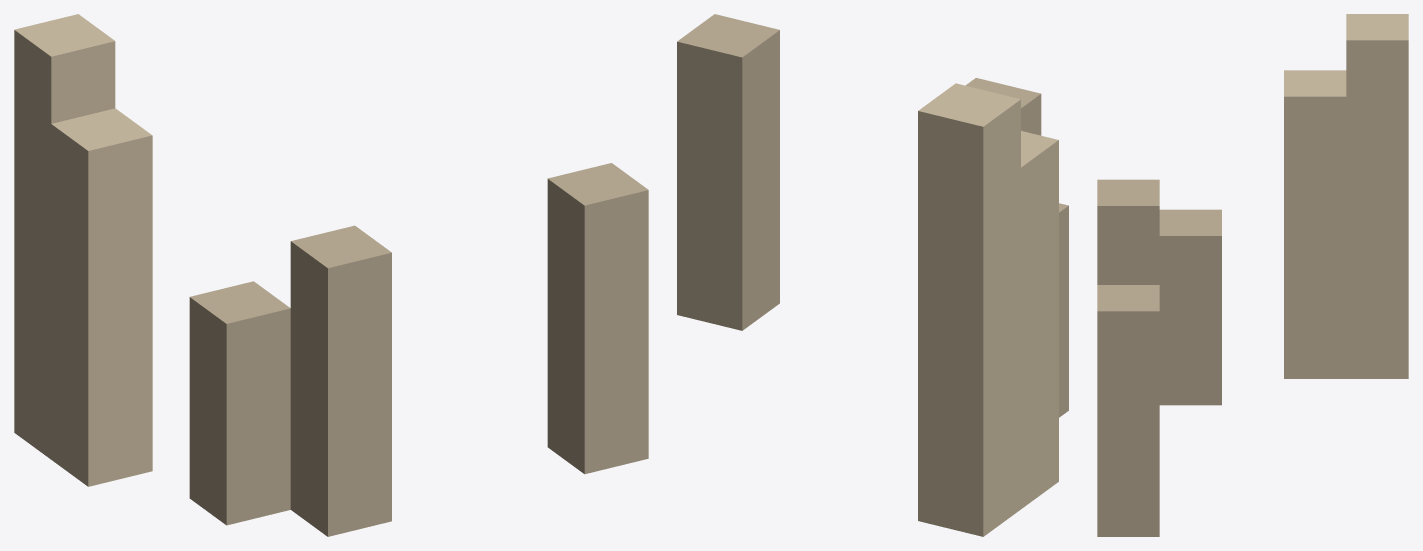
Rendered from cebolla_de_montana_03.glb.
3 renders of one model, left to right at view 1: azimuth 30°, elevation 25°; view 2: azimuth 150°, elevation 25°; view 3: azimuth 270°, elevation 25°, orthographic. The views are drawn at different scales.
Visible parts, largest first — view 1: cebolla_de_montana_03; view 2: cebolla_de_montana_03; view 3: cebolla_de_montana_03.
Part boxes in pixels (x1,y1,x2,y2): cebolla_de_montana_03: [14, 14, 648, 536]; cebolla_de_montana_03: [677, 14, 1068, 536]; cebolla_de_montana_03: [1097, 14, 1408, 536].
Size of the model in its own units: 0.7 by 0.6 by 0.5.
